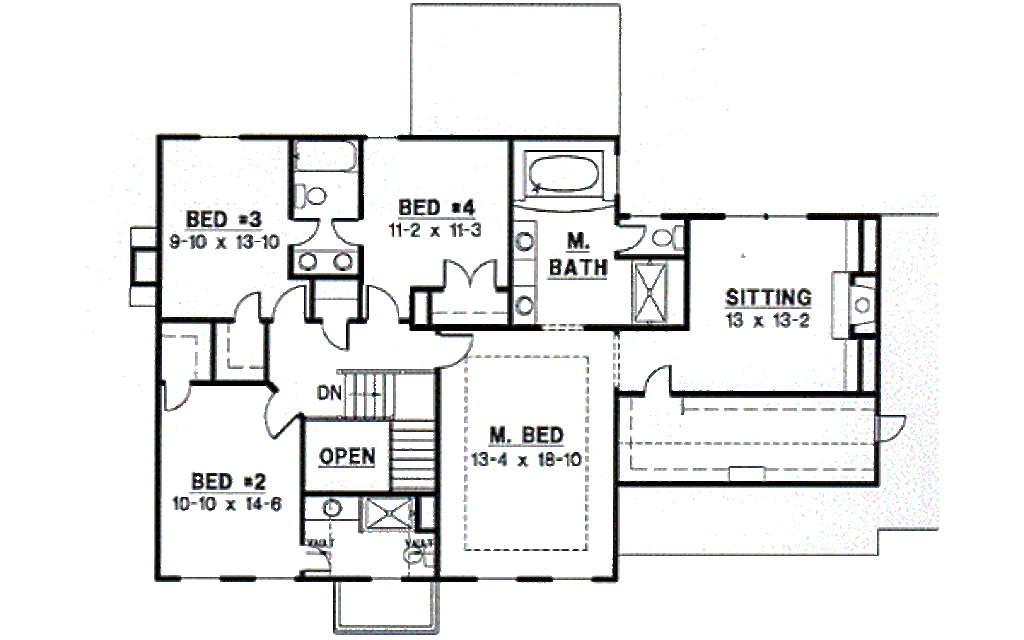door: (429, 325, 480, 369), (442, 256, 497, 291), (262, 391, 300, 441), (363, 279, 403, 323), (270, 285, 307, 327), (873, 411, 910, 445), (161, 378, 192, 415), (229, 291, 262, 323), (320, 318, 350, 353), (616, 223, 646, 256), (644, 363, 673, 397)
large_sink: (288, 177, 328, 210), (649, 219, 683, 252)
small_sink: (512, 219, 540, 330), (289, 247, 359, 279), (303, 496, 363, 525)
stairs: (331, 366, 440, 491)
tub: (519, 149, 610, 202), (290, 136, 360, 175)
